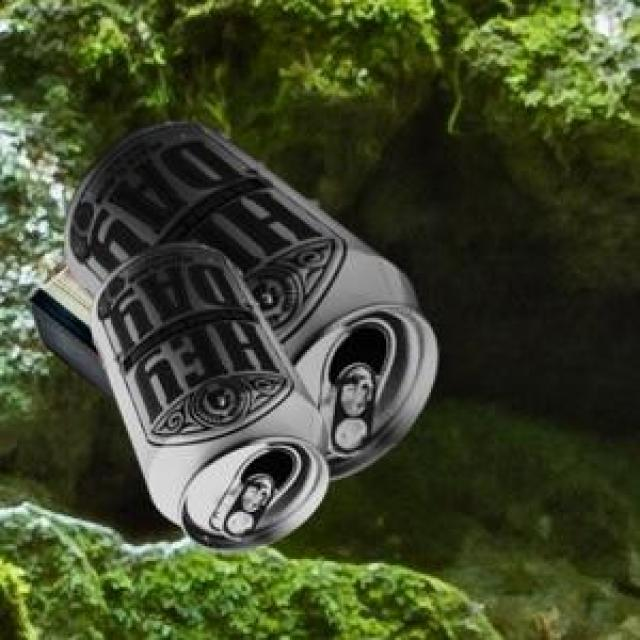Can: (61, 118, 434, 477), (89, 238, 325, 549), (25, 263, 113, 400)
